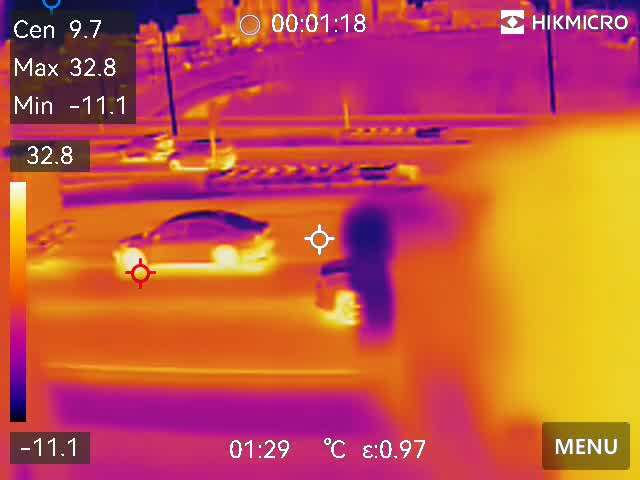smallCar: (112, 206, 281, 268)
vehicle: (166, 140, 239, 172), (118, 135, 171, 159)
